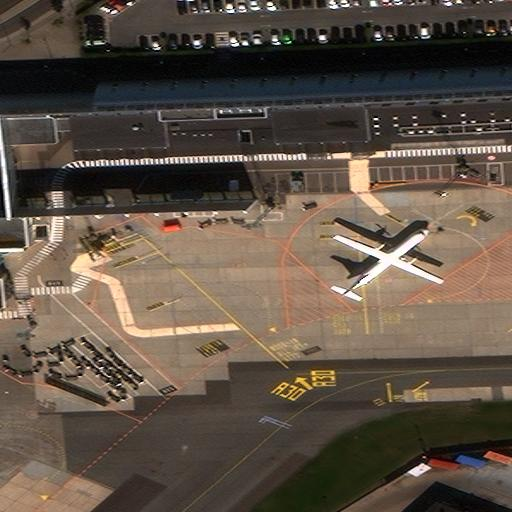Medium Civil Transport: (338, 230, 443, 297)
